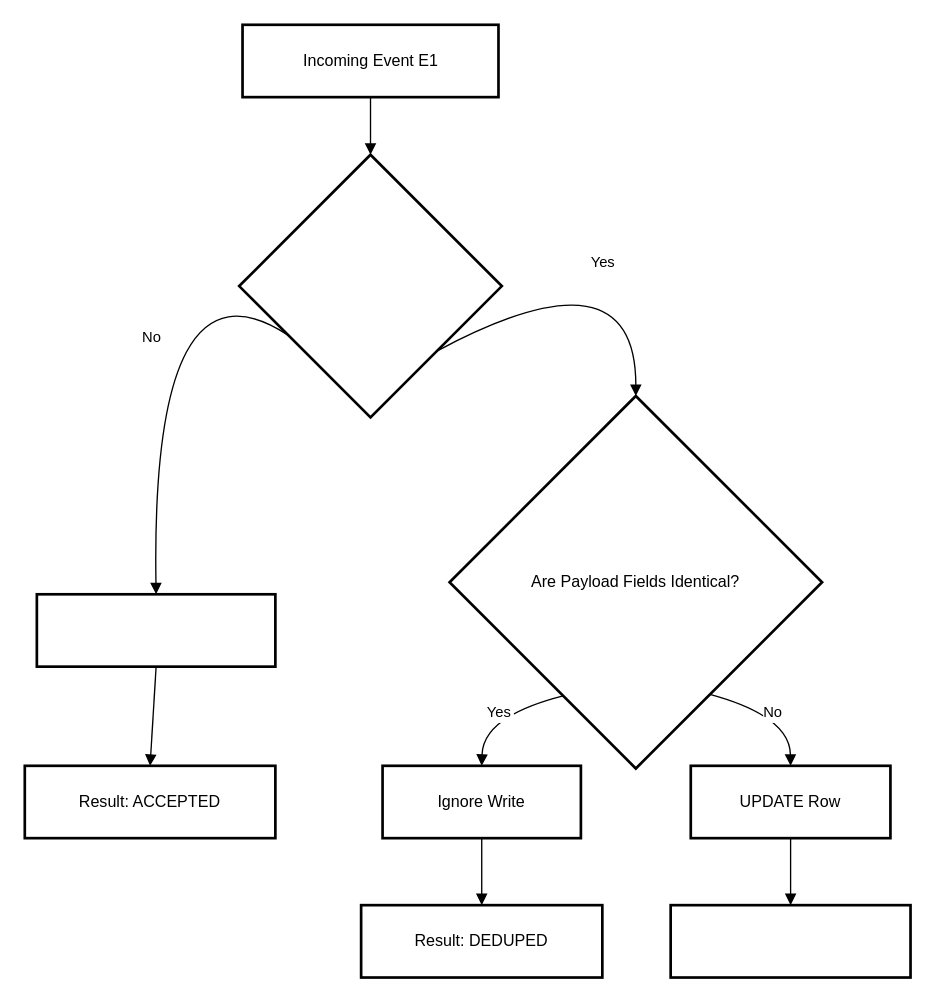
This 934x1001 diagram has some shape labels left out. The centre of each missing label's shape, as x and y in pixels:
"Does E1 exist in DB?" goes at point (370, 285).
"INSERT New Row" goes at point (155, 629).
"Result: UPDATED" goes at point (790, 940).
